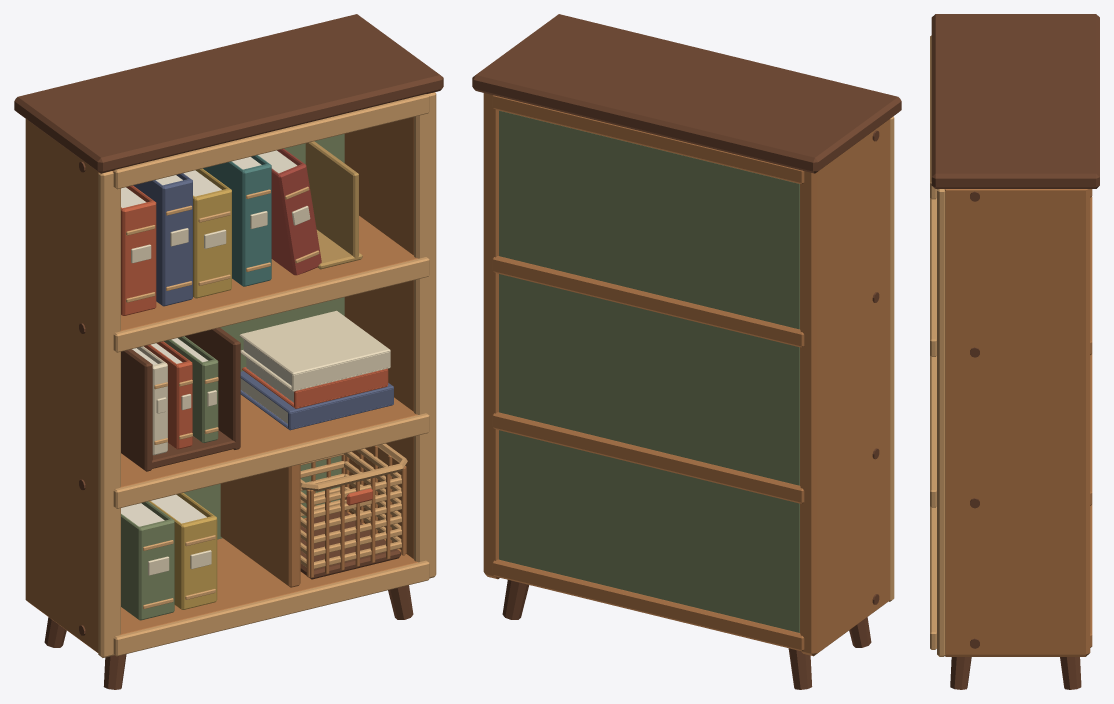
File: 003_compact_bookshelf_v02.glb
The picture shows the model from 3 angles, left to right: view 1: azimuth 30°, elevation 25°; view 2: azimuth 150°, elevation 25°; view 3: azimuth 270°, elevation 25°; orthographic projection. The views are drawn at different scales.
Parts seen in each view (by area): view 1: 003 solid side panel -1, 003 overhanging crown, 003 solid side panel 1, 003 rounded side face band -1, 003 rounded side face band 1, 003 lower cubby divider, 003 shelf nosing 2, 003 shelf nosing 1, 003 shelf nosing 0, 003 shelf nosing 3, 003 shelf board 1, 003 shelf board 2 (+34 smaller); view 2: 003 sage inset back, 003 solid side panel -1, 003 overhanging crown, 003 solid side panel 1, 003 shelf board 0, 003 shelf board 1, 003 shelf board 2, 003 shelf board 3, 003 rounded side face band -1, 003 tapered peg foot.002, 003 tapered peg foot; view 3: 003 solid side panel 1, 003 overhanging crown, 003 rounded side face band 1, 003 shelf nosing 2, 003 shelf nosing 1, 003 shelf nosing 0, 003 tapered peg foot.003, 003 tapered peg foot.002, 003 shelf board 2, 003 shelf board 1, 003 shelf board 0, 003 shelf nosing 3.
Part boxes in pixels (x1,y1,x2,y2): 003 solid side panel -1: [25, 119, 98, 652]; 003 overhanging crown: [14, 14, 443, 173]; 003 solid side panel 1: [344, 117, 413, 558]; 003 rounded side face band -1: [98, 171, 120, 657]; 003 rounded side face band 1: [414, 92, 436, 578]; 003 lower cubby divider: [220, 464, 300, 587]; 003 shelf nosing 2: [113, 257, 429, 352]; 003 shelf nosing 1: [113, 413, 429, 508]; 003 shelf nosing 0: [113, 560, 429, 656]; 003 shelf nosing 3: [113, 94, 429, 189]; 003 shelf board 1: [120, 395, 417, 487]; 003 shelf board 2: [120, 216, 417, 331]; 003 sage inset back: [499, 110, 799, 632]; 003 solid side panel -1: [800, 119, 890, 656]; 003 overhanging crown: [472, 14, 901, 173]; 003 solid side panel 1: [483, 93, 499, 579]; 003 shelf board 0: [492, 559, 804, 650]; 003 shelf board 1: [492, 412, 804, 503]; 003 shelf board 2: [492, 256, 804, 347]; 003 shelf board 3: [492, 95, 804, 183]; 003 rounded side face band -1: [888, 116, 894, 601]; 003 tapered peg foot.002: [502, 580, 529, 619]; 003 tapered peg foot: [788, 648, 812, 689]; 003 solid side panel 1: [944, 189, 1090, 656]; 003 overhanging crown: [931, 14, 1099, 188]; 003 rounded side face band 1: [937, 189, 945, 656]; 003 shelf nosing 2: [930, 198, 936, 356]; 003 shelf nosing 1: [930, 356, 936, 507]; 003 shelf nosing 0: [930, 506, 936, 649]; 003 tapered peg foot.003: [950, 657, 971, 689]; 003 tapered peg foot.002: [1060, 657, 1081, 689]; 003 shelf board 2: [1090, 196, 1092, 354]; 003 shelf board 1: [1090, 354, 1092, 505]; 003 shelf board 0: [1090, 504, 1092, 647]; 003 shelf nosing 3: [930, 35, 936, 199].
Size of the model in its own units: 1.02 by 1.54 by 0.4495.
